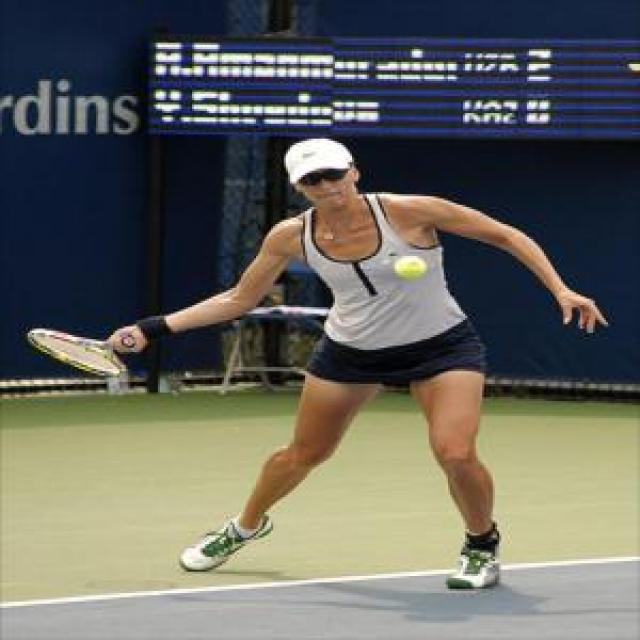Tennis-Ball: (395, 253, 428, 282)
